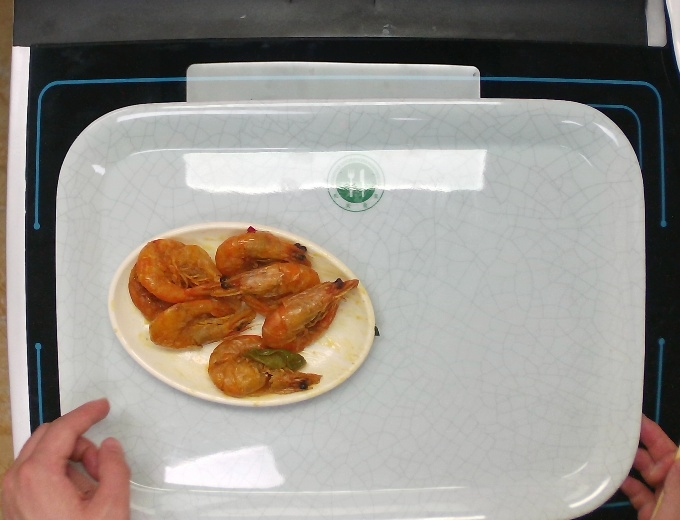JYsf-Tuo_Yuan_Wan: (105, 218, 379, 412)
